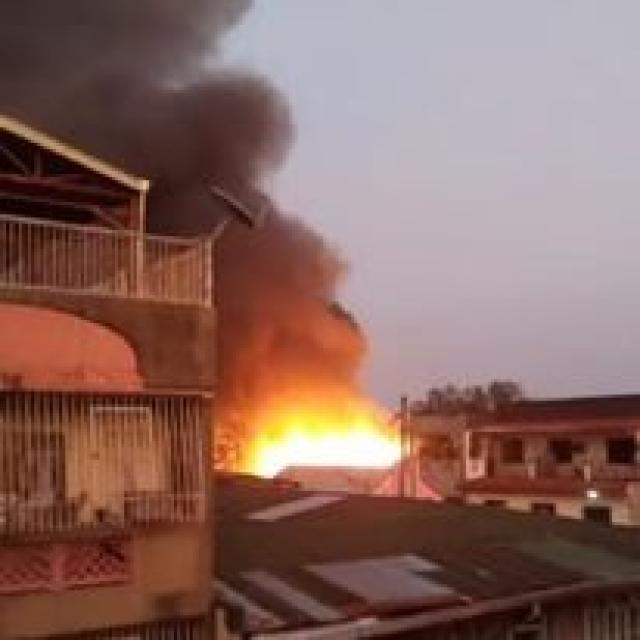Fire: (221, 380, 428, 488)
Smoke: (0, 0, 367, 388)
